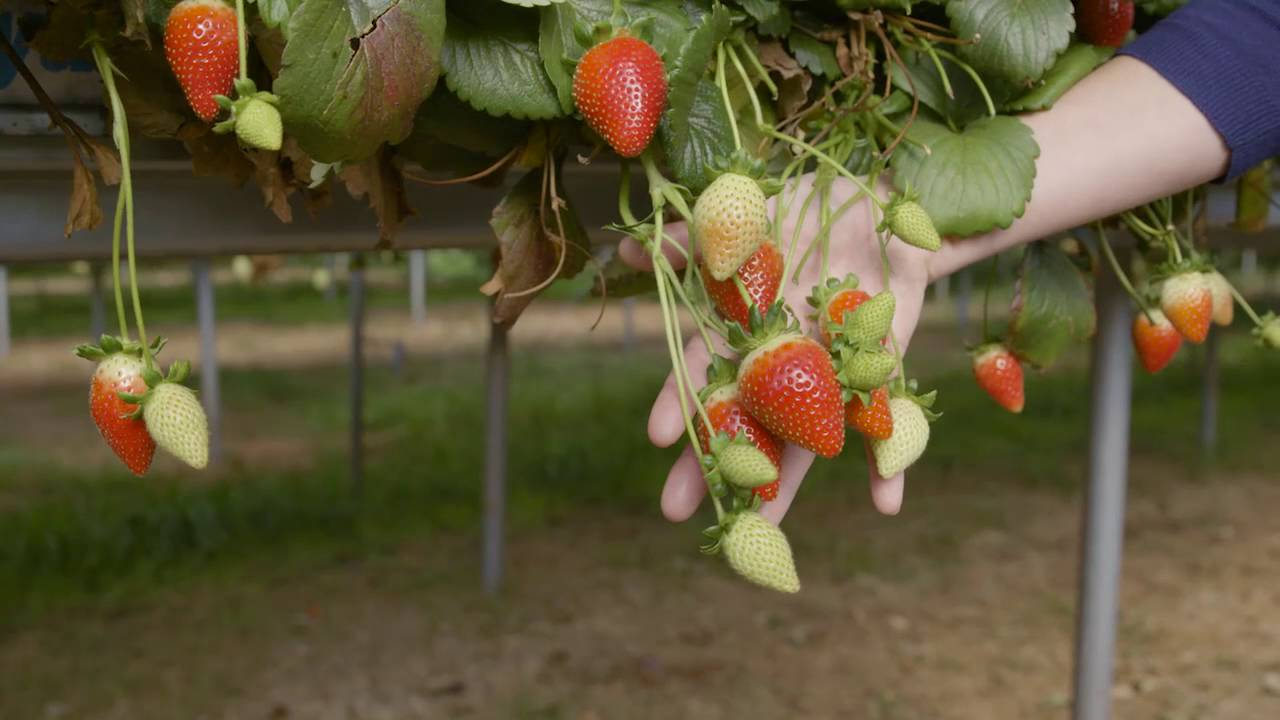ripe: (733, 339, 848, 461), (702, 374, 802, 510), (573, 36, 673, 158), (86, 342, 161, 480), (165, 5, 245, 123), (700, 229, 790, 331), (1161, 268, 1217, 345), (970, 338, 1028, 412), (1132, 303, 1188, 374), (809, 281, 870, 345), (843, 387, 893, 441)
unripe: (692, 170, 771, 280), (714, 509, 804, 599), (140, 377, 214, 470), (867, 390, 934, 481), (886, 192, 942, 255), (715, 437, 777, 490), (231, 92, 284, 154), (842, 343, 899, 390), (850, 294, 890, 349), (1203, 270, 1237, 329)
